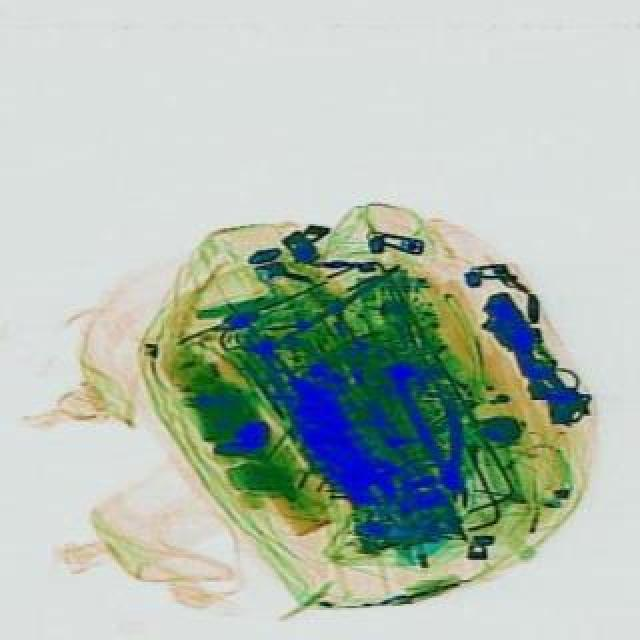wrench: (388, 368, 480, 500)
